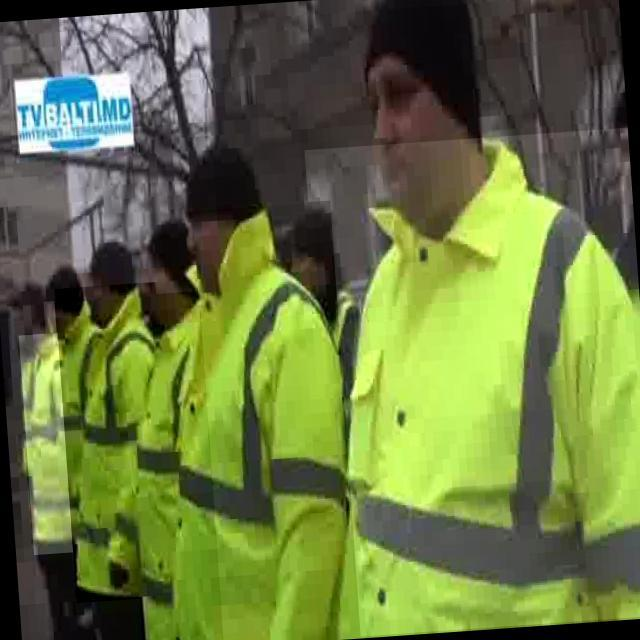Safety Vest: (304, 128, 640, 639), (142, 201, 360, 640), (54, 282, 177, 603), (117, 290, 223, 640), (44, 298, 113, 553), (19, 332, 82, 555)
